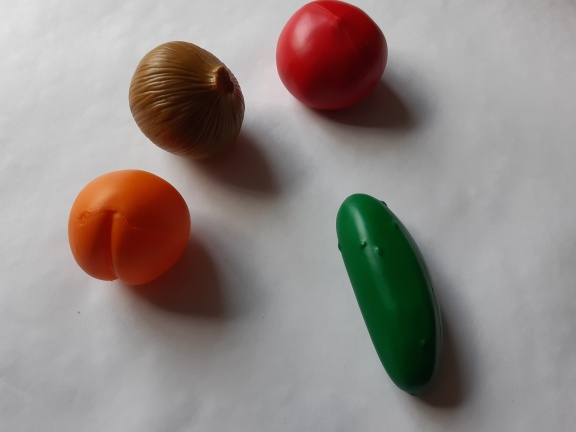apricot: (53, 161, 200, 294)
cucumber: (331, 186, 445, 404)
onion: (119, 34, 256, 166)
tomato: (267, 1, 396, 117)
